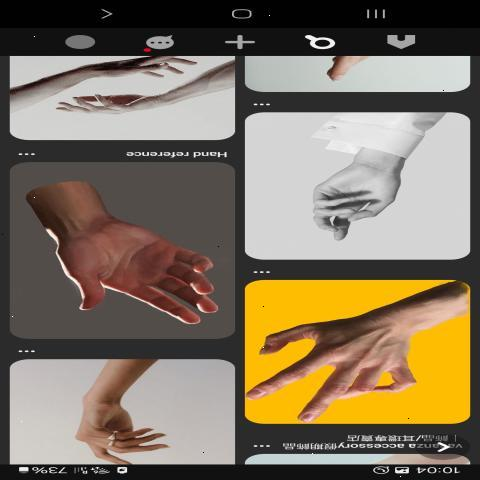Hands: (17, 189, 226, 331), (242, 294, 442, 426), (258, 140, 420, 254), (63, 368, 170, 457), (46, 90, 180, 132), (77, 52, 207, 84)
